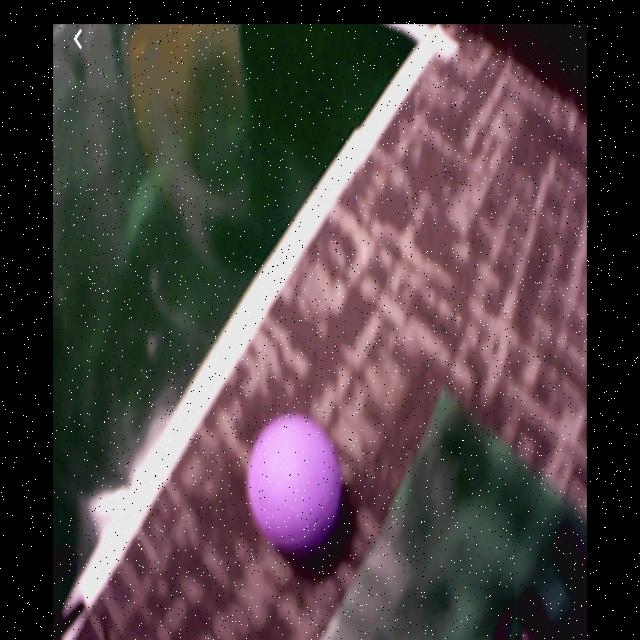ball: (246, 417, 346, 555)
